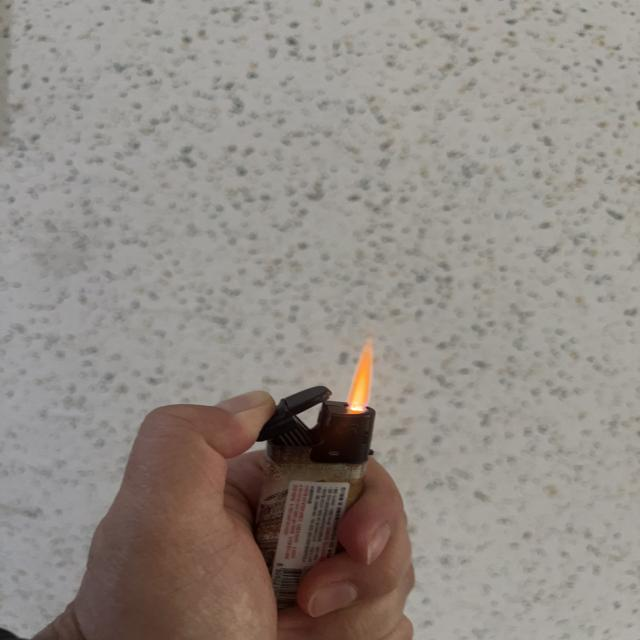fire: (346, 346, 376, 409)
